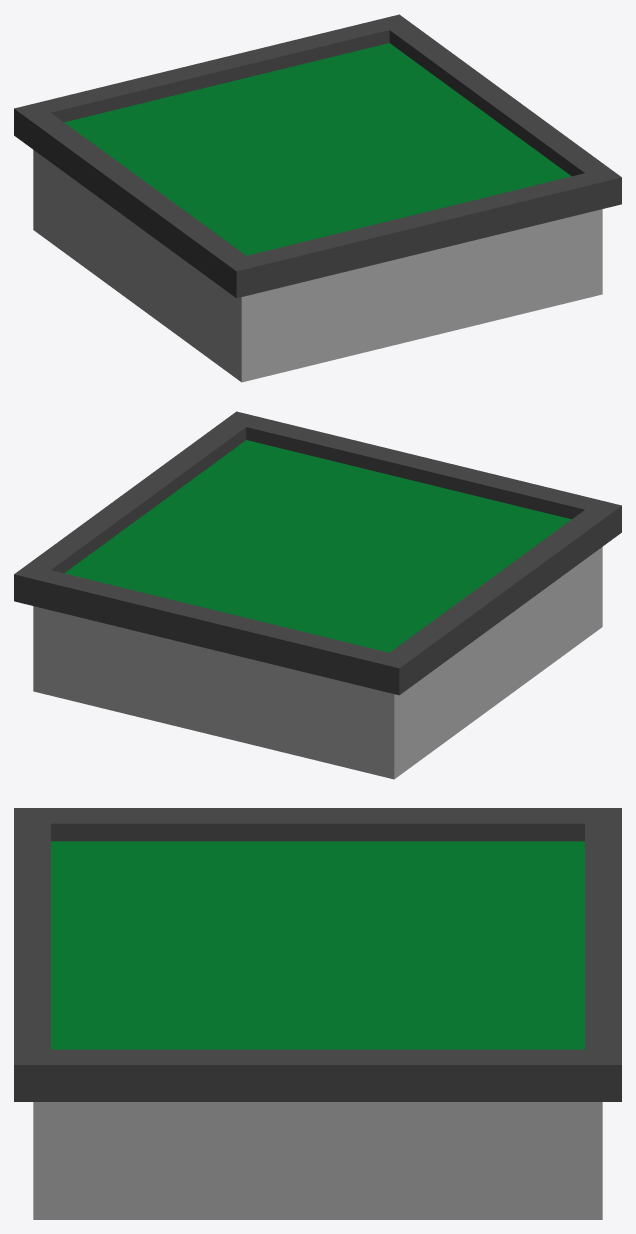
The model's file is Flowerbed-02m.fbx.
3 renders of one model, top to bottom at view 1: azimuth 30°, elevation 25°; view 2: azimuth 150°, elevation 25°; view 3: azimuth 270°, elevation 25°, orthographic. The views are drawn at different scales.
Visible parts, largest first — view 1: Flowerbed-02m; view 2: Flowerbed-02m; view 3: Flowerbed-02m.
Part boxes in pixels (x1=…): Flowerbed-02m: x1=14, y1=14, x2=621, y2=382; Flowerbed-02m: x1=14, y1=411, x2=621, y2=779; Flowerbed-02m: x1=14, y1=808, x2=621, y2=1219.
Size of the model in its own units: 1.14 by 0.3365 by 1.14.
